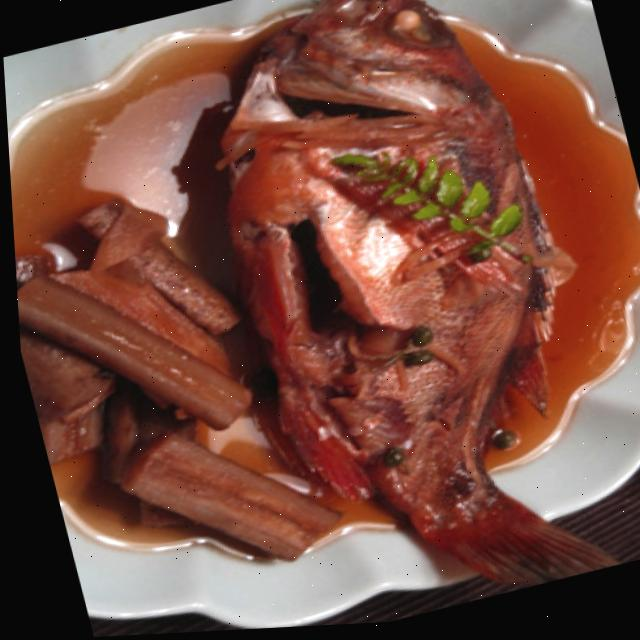熟制海鲜: (137, 0, 640, 634)
